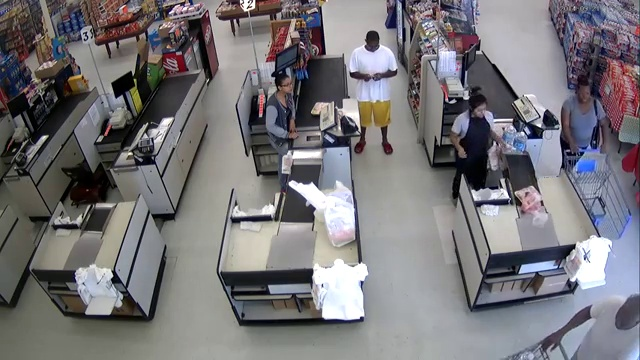face: (278, 80, 297, 95), (474, 101, 487, 118), (579, 86, 590, 102), (368, 41, 379, 53)
